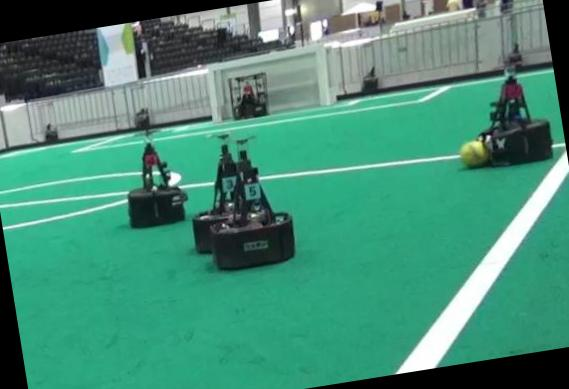ball: (458, 139, 487, 167)
goal: (314, 45, 330, 105), (206, 66, 221, 121)
robot: (209, 138, 294, 267), (480, 74, 551, 165), (192, 133, 236, 253), (126, 142, 185, 227), (227, 72, 266, 118)
